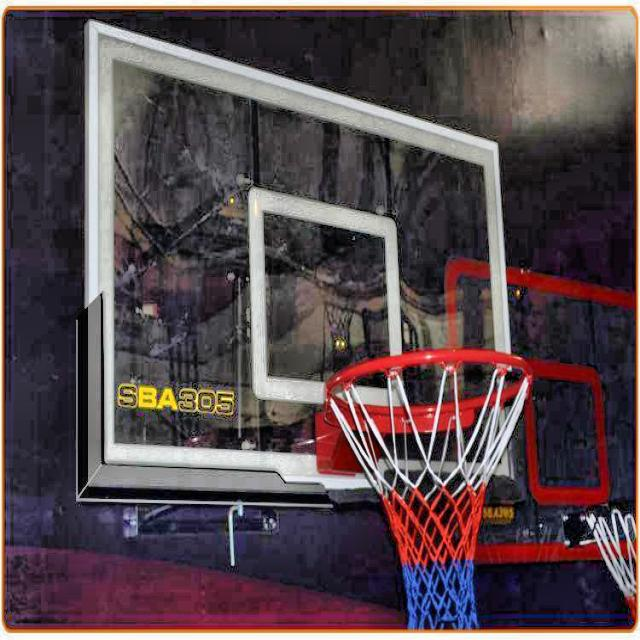rim: (327, 350, 535, 640)
